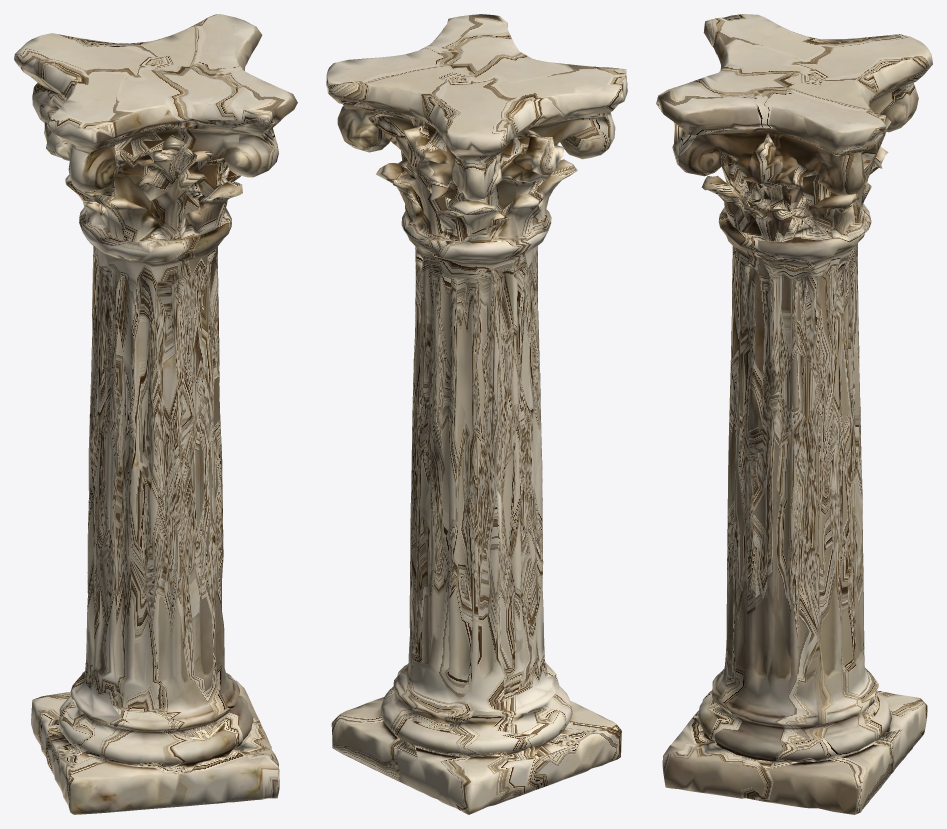
File: column.glb
3 views of the same model, side by side, from view 1: azimuth 30°, elevation 25°; view 2: azimuth 150°, elevation 25°; view 3: azimuth 270°, elevation 25° (orthographic).
Parts seen in each view (by area): view 1: tripo_node_9779e5c7-a1d0-4283-b13b-7216592ec5ba; view 2: tripo_node_9779e5c7-a1d0-4283-b13b-7216592ec5ba; view 3: tripo_node_9779e5c7-a1d0-4283-b13b-7216592ec5ba.
Part boxes in pixels (<box>): tripo_node_9779e5c7-a1d0-4283-b13b-7216592ec5ba: <box>14,14,297,814</box>; tripo_node_9779e5c7-a1d0-4283-b13b-7216592ec5ba: <box>326,14,627,814</box>; tripo_node_9779e5c7-a1d0-4283-b13b-7216592ec5ba: <box>656,14,932,814</box>.
Size of the model in its own units: 0.3849 by 1 by 0.3647.
1 material, 1 textured.
